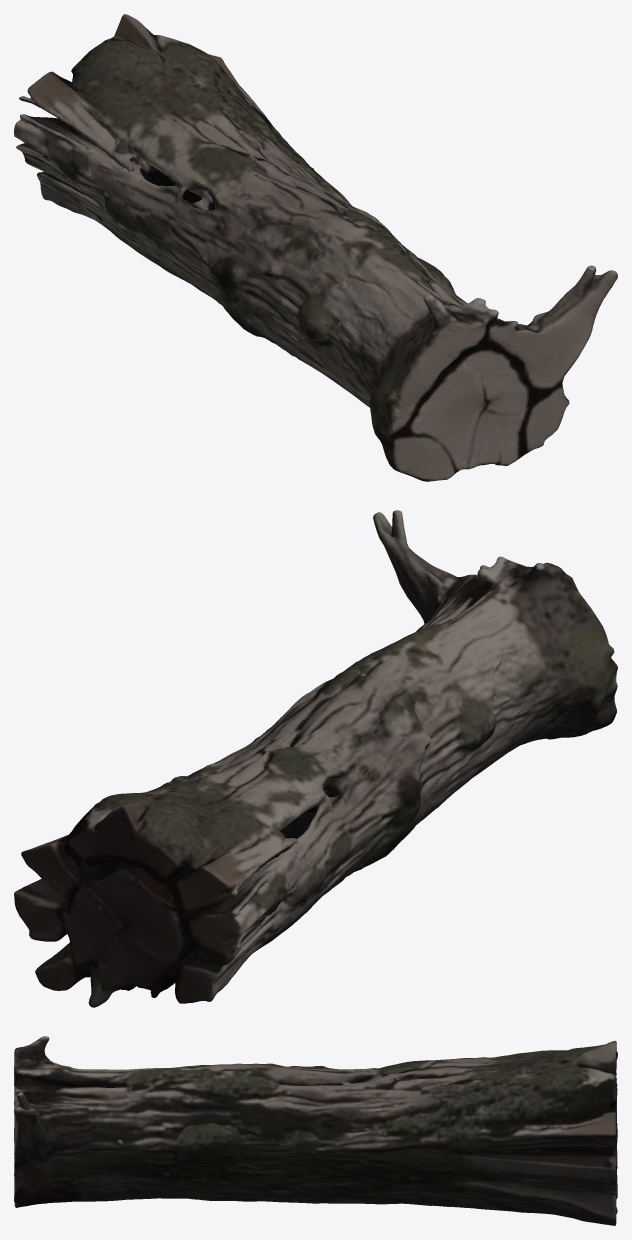
Rendered from char_fallen_log_01.glb.
3 views of the same model, one above another, from view 1: azimuth 30°, elevation 25°; view 2: azimuth 150°, elevation 25°; view 3: azimuth 270°, elevation 25° (orthographic). The views are drawn at different scales.
Visible parts, largest first — view 1: geometry_0; view 2: geometry_0; view 3: geometry_0.
Part boxes in pixels (<box>): geometry_0: <box>14,14,617,481</box>; geometry_0: <box>14,510,617,1007</box>; geometry_0: <box>14,1036,617,1225</box>.
Size of the model in its own units: 0.3757 by 0.299 by 1.
Materials: 1 (1 with a texture image).
